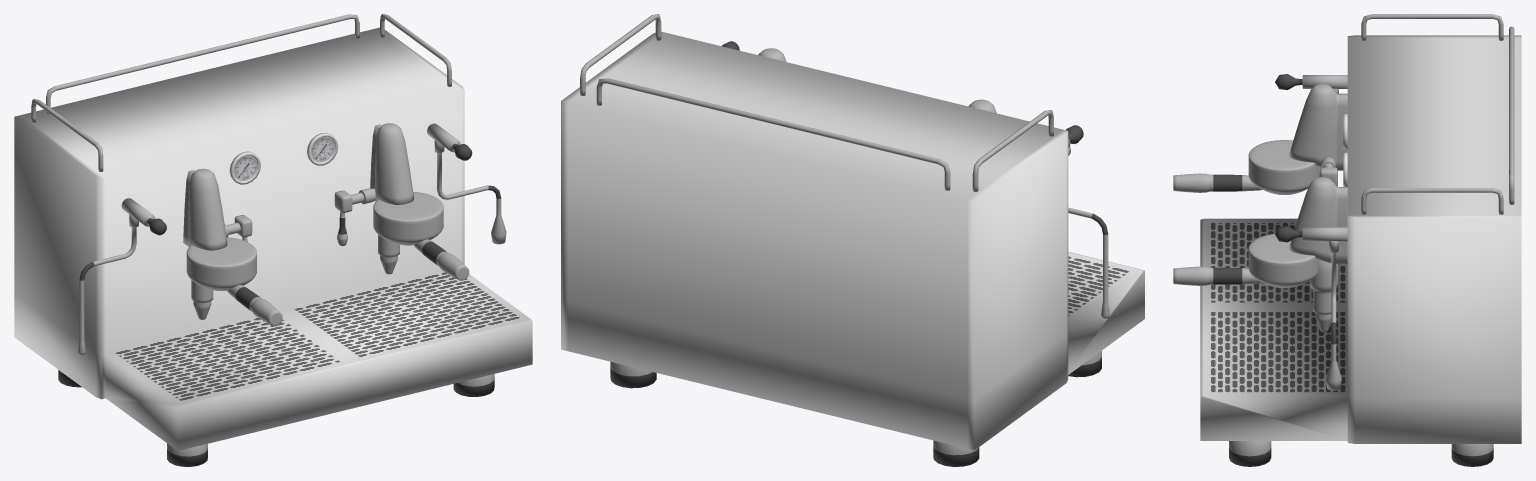
File: coffee_machine.fbx
The picture shows the model from 3 angles, left to right: view 1: azimuth 30°, elevation 25°; view 2: azimuth 150°, elevation 25°; view 3: azimuth 270°, elevation 25°; orthographic projection. The views are drawn at different scales.
Parts seen in each view (by area): view 1: Cube, Cylinder_007, Cylinder_002, Cylinder_001, Cylinder_005, Cylinder_004, Cube_002, Cylinder_006, Cylinder_003; view 2: Cube, Cylinder_002, Cylinder_001, Cylinder_004; view 3: Cube, Cylinder_007, Cylinder_002, Cylinder_001, Cylinder_005, Cylinder_006, Cylinder_003.
Boxes of the visible parts, x1,y1,x2,y2 form: Cube: (14,27,532,450); Cylinder_007: (183,123,469,326); Cylinder_002: (31,14,451,171); Cylinder_001: (58,370,494,466); Cylinder_005: (434,140,506,244); Cylinder_004: (78,214,138,354); Cube_002: (234,136,334,181); Cylinder_006: (427,123,472,160); Cylinder_003: (121,198,166,235); Cube: (561,31,1144,450); Cylinder_002: (580,14,1053,191); Cylinder_001: (610,351,1101,466); Cylinder_004: (1068,207,1109,318); Cube: (1200,35,1521,443); Cylinder_007: (1173,84,1347,331); Cylinder_002: (1361,14,1514,214); Cylinder_001: (1229,441,1493,466); Cylinder_005: (1326,241,1341,390); Cylinder_006: (1275,226,1347,242); Cylinder_003: (1275,74,1347,90).
Size of the model in its own units: 5.82 by 3.64 by 4.02.
